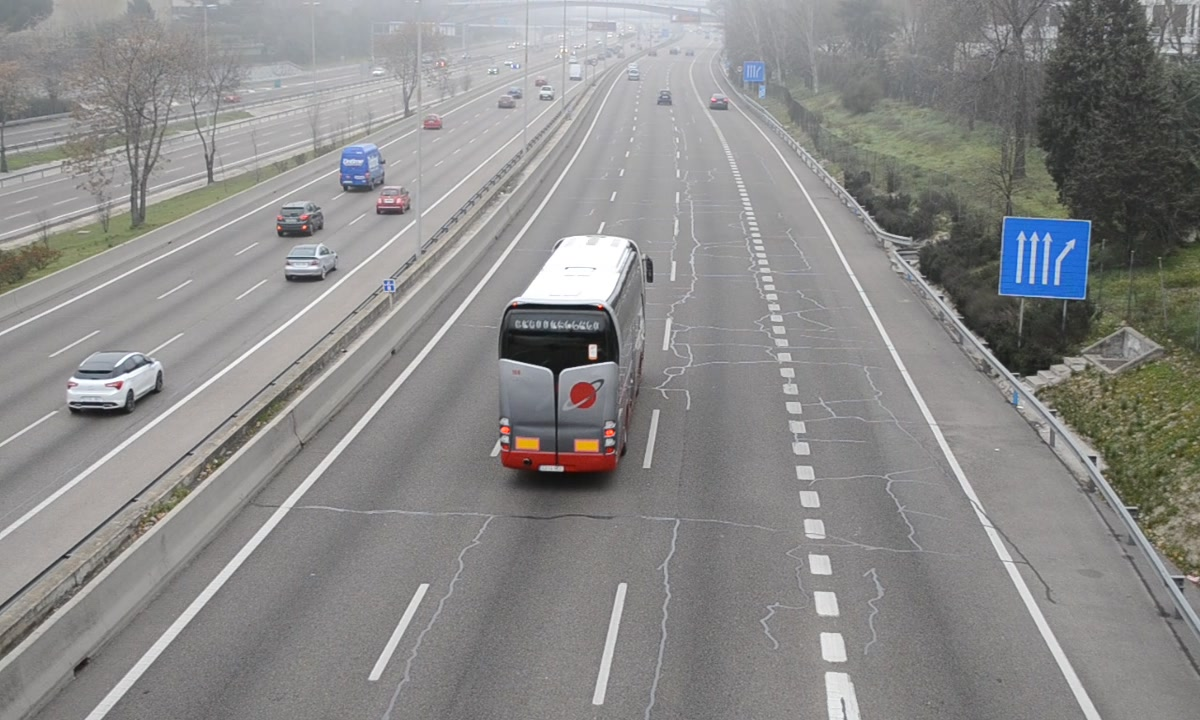bus: (493, 235, 644, 477)
car: (708, 92, 730, 111)
